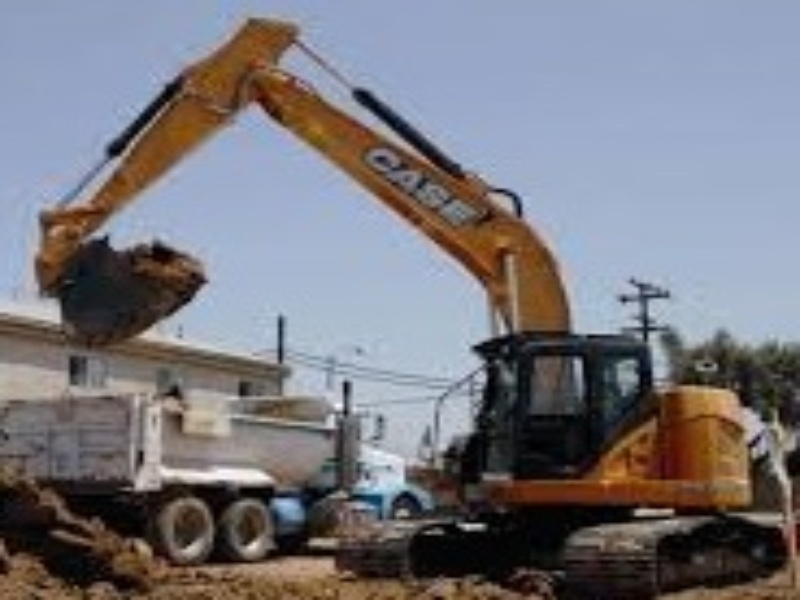wajueji: (356, 238, 786, 600)
